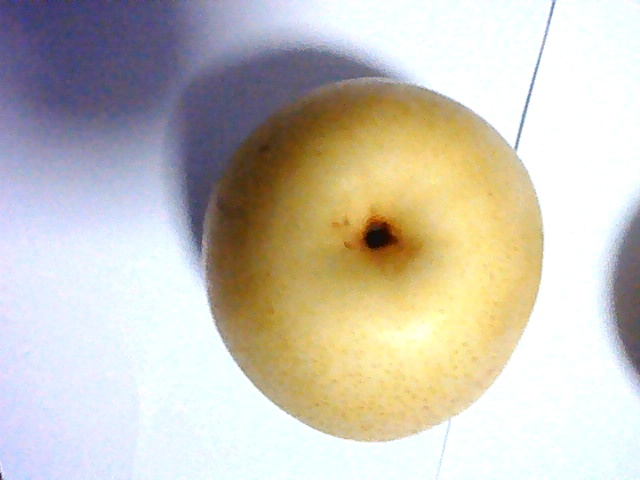pear: (192, 77, 546, 438)
